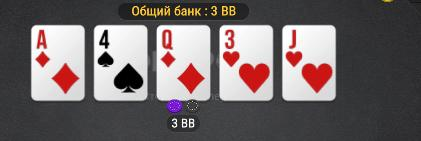3h: (221, 27, 272, 99)
4s: (95, 26, 146, 99)
Ad: (32, 26, 83, 98)
Jh: (283, 26, 336, 100)
Qd: (157, 26, 210, 99)
